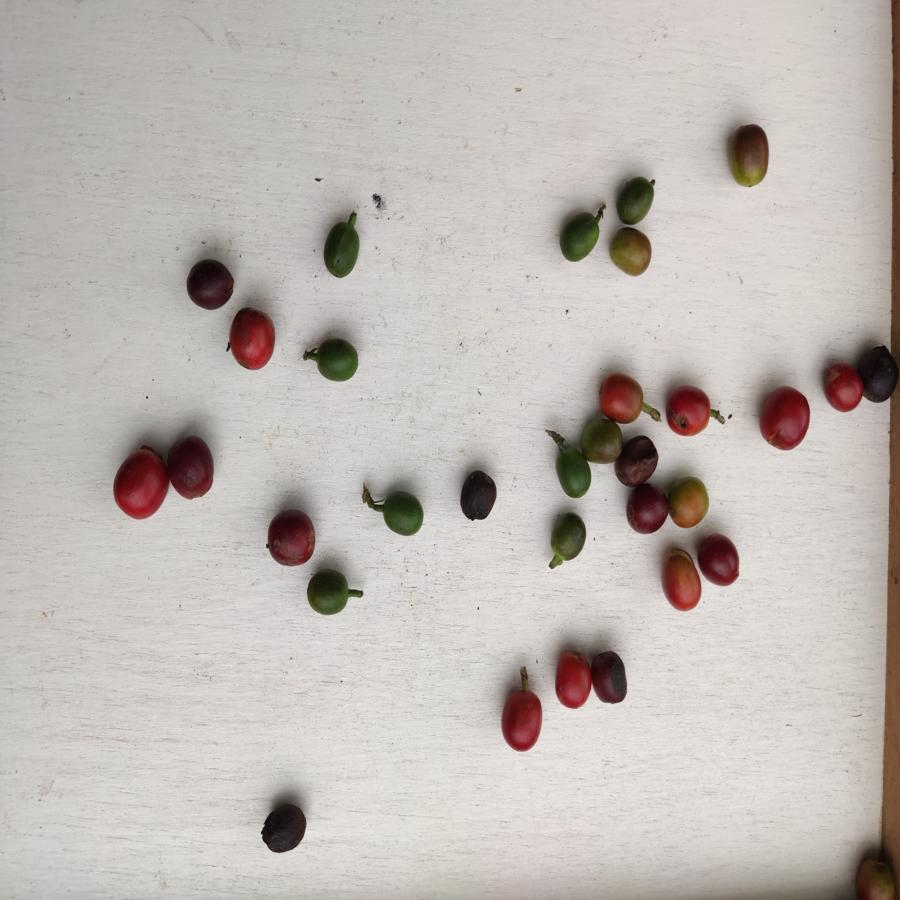Inmaduro: (544, 512, 592, 562), (321, 219, 360, 279), (380, 485, 426, 534), (552, 442, 591, 498), (306, 569, 352, 616), (313, 338, 360, 383), (561, 212, 597, 261), (617, 175, 655, 221)
Maduro: (115, 450, 168, 520), (757, 383, 812, 450), (228, 307, 281, 373), (550, 647, 595, 710), (500, 688, 544, 750), (660, 552, 704, 611), (667, 385, 712, 435), (824, 360, 863, 417), (598, 373, 642, 422)
Pinton: (726, 121, 772, 191), (667, 474, 711, 525), (851, 854, 899, 900), (609, 229, 654, 276), (583, 416, 623, 465)
Sobremaduro: (262, 507, 319, 566), (167, 436, 215, 502), (259, 803, 309, 852), (184, 260, 232, 310), (856, 344, 896, 402), (624, 481, 666, 535), (458, 467, 497, 523), (592, 648, 630, 704), (623, 432, 658, 484)
